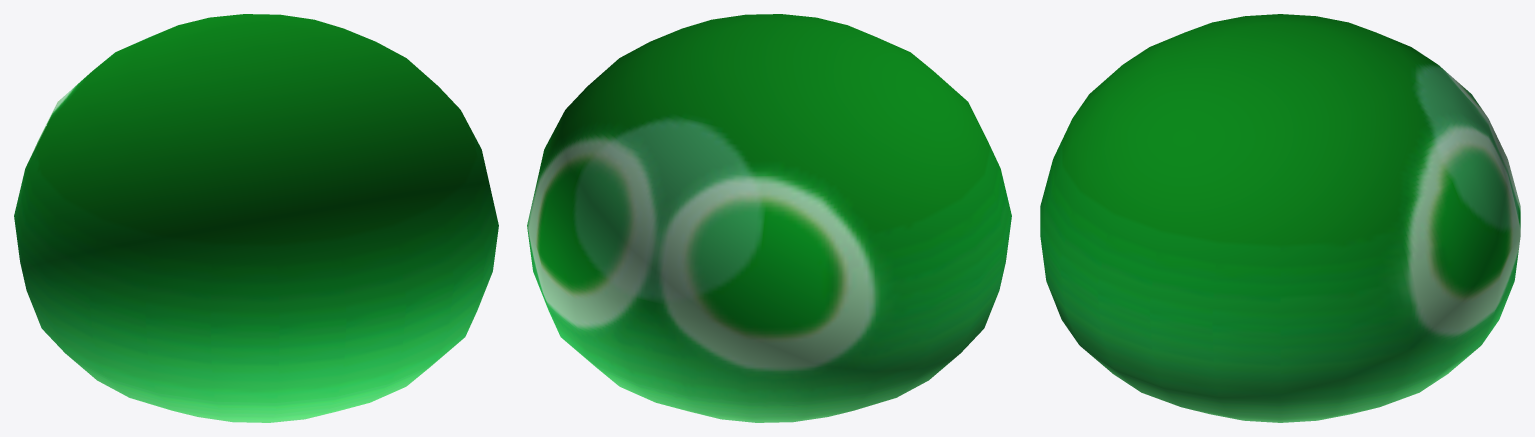
Rendered from puyo.ico.obj.
The picture shows the model from 3 angles, left to right: view 1: azimuth 30°, elevation 25°; view 2: azimuth 150°, elevation 25°; view 3: azimuth 270°, elevation 25°; orthographic projection.
Size of the model in its own units: 4.67 by 3.6 by 4.62.
1 material, 1 textured.
